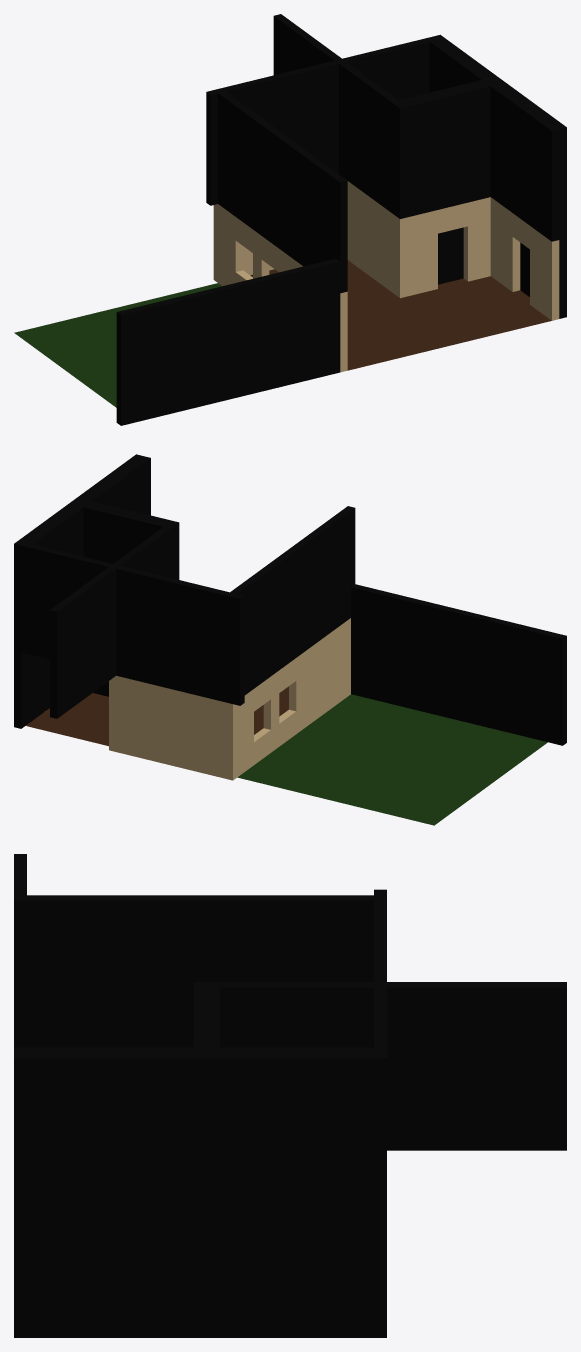
File: level 1.glb
The picture shows the model from 3 angles, top to bottom: view 1: azimuth 30°, elevation 25°; view 2: azimuth 150°, elevation 25°; view 3: azimuth 270°, elevation 25°; orthographic projection. The views are drawn at different scales.
Parts seen in each view (by area): view 1: black-col, black-col.001, Plane-col, black-col.005, black-col.004, black-col.007, black-col.006, outside, Cube.002-col, Cube.004-col, Cube.001-col, Cube-col (+3 smaller); view 2: black-col, outside, black-col.005, black-col.001, Cube.003-col, black-col.004, Cube-col, black-col.007, black-col.003, black-col.002, Plane-col; view 3: black-col.003, black-col.001, black-col.004, black-col.007, black-col.005, black-col.006, black-col.002.
Part boxes in pixels (<box>): black-col: <box>116,258,340,425</box>; black-col.001: <box>214,88,347,293</box>; Plane-col: <box>250,260,551,370</box>; black-col.005: <box>206,38,429,205</box>; black-col.004: <box>273,14,407,218</box>; black-col.007: <box>425,36,559,241</box>; black-col.006: <box>403,81,497,216</box>; outside: <box>14,283,221,407</box>; Cube.002-col: <box>407,197,490,296</box>; Cube.004-col: <box>490,197,559,320</box>; Cube.001-col: <box>347,181,407,298</box>; Cube-col: <box>218,204,347,372</box>; black-col: <box>351,584,566,745</box>; outside: <box>237,694,547,825</box>; black-col.005: <box>28,544,244,705</box>; black-col.001: <box>225,506,355,703</box>; Cube.003-col: <box>109,675,237,780</box>; black-col.004: <box>50,520,179,718</box>; Cube-col: <box>237,618,350,776</box>; black-col.007: <box>21,456,150,654</box>; black-col.003: <box>14,454,142,728</box>; black-col.002: <box>76,503,167,696</box>; Plane-col: <box>26,686,288,746</box>; black-col.003: <box>14,1052,386,1337</box>; black-col.001: <box>14,895,386,1047</box>; black-col.004: <box>194,982,566,1150</box>; black-col.007: <box>14,1047,386,1052</box>; black-col.005: <box>374,889,386,1047</box>; black-col.006: <box>194,987,206,1052</box>; black-col.002: <box>207,987,219,1052</box>.
Size of the model in its own units: 29.5 by 12 by 21.5.
